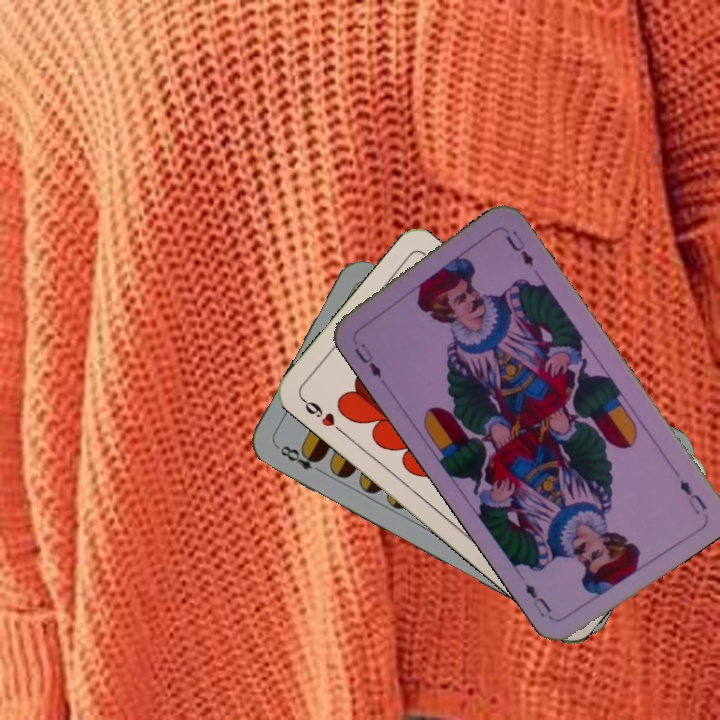E8: (273, 441, 327, 477)
EU: (675, 474, 710, 518), (350, 339, 384, 380)
H9: (297, 394, 346, 437)
